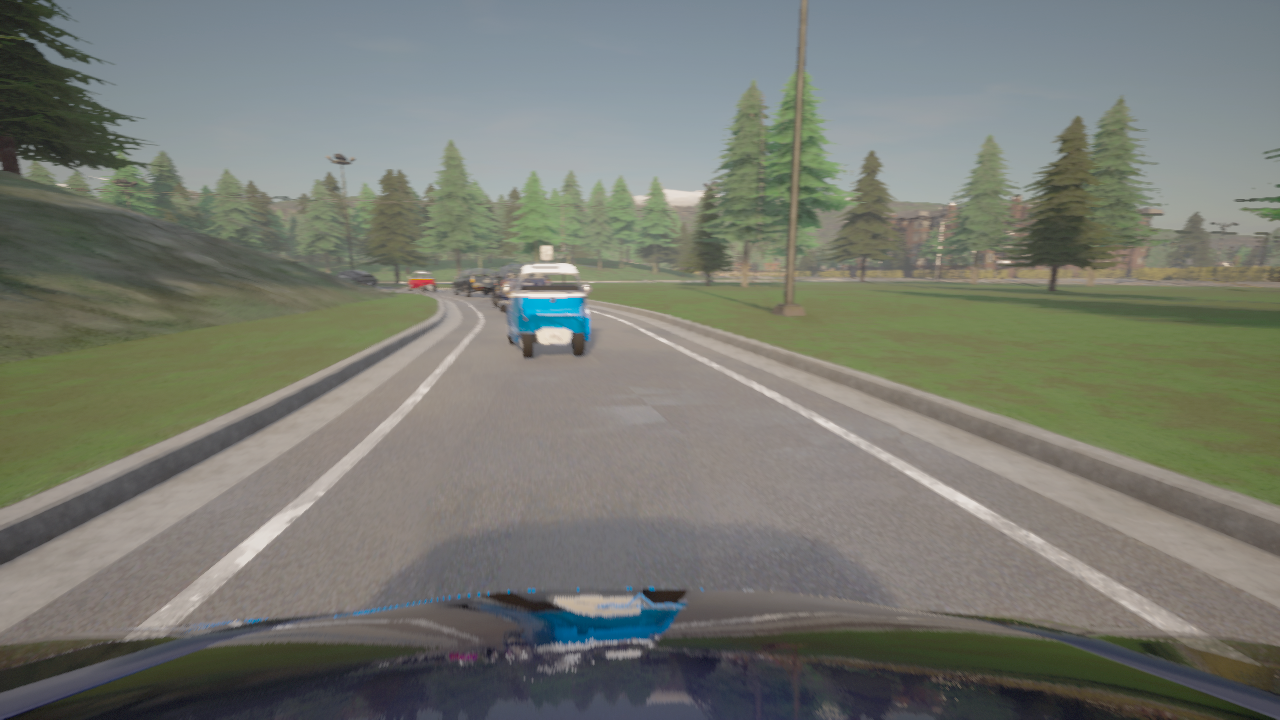cyclist: (0, 588, 1279, 719), (502, 263, 590, 358), (491, 263, 532, 312), (452, 267, 497, 297), (336, 270, 377, 287), (407, 271, 435, 291)
